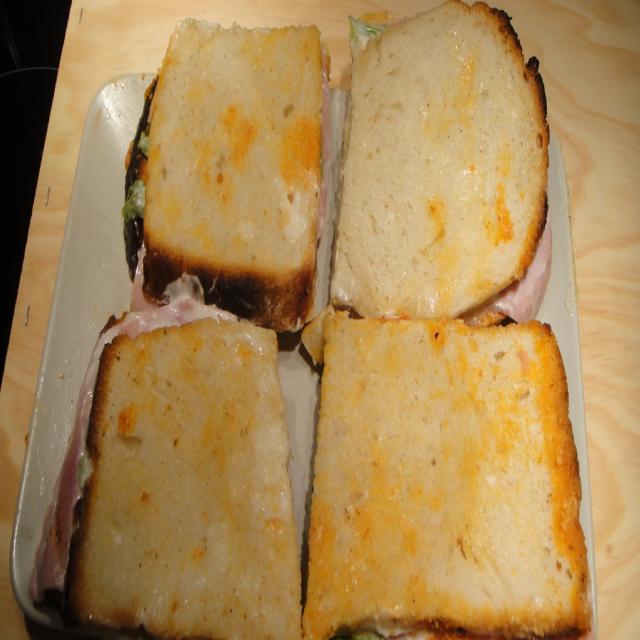Sandwich: (298, 308, 595, 638), (60, 316, 302, 640), (327, 0, 551, 315), (125, 9, 330, 337)
